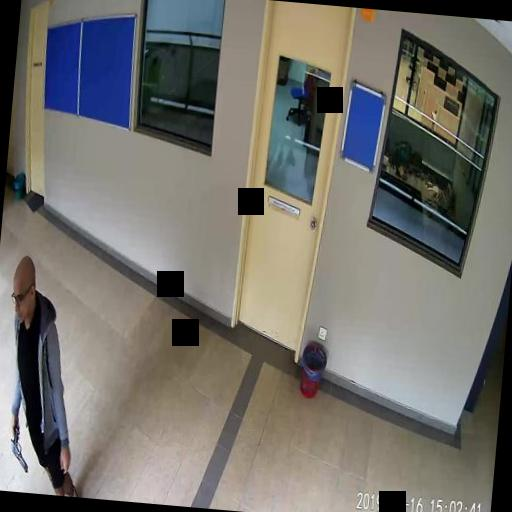Handgun: (6, 422, 30, 469)
